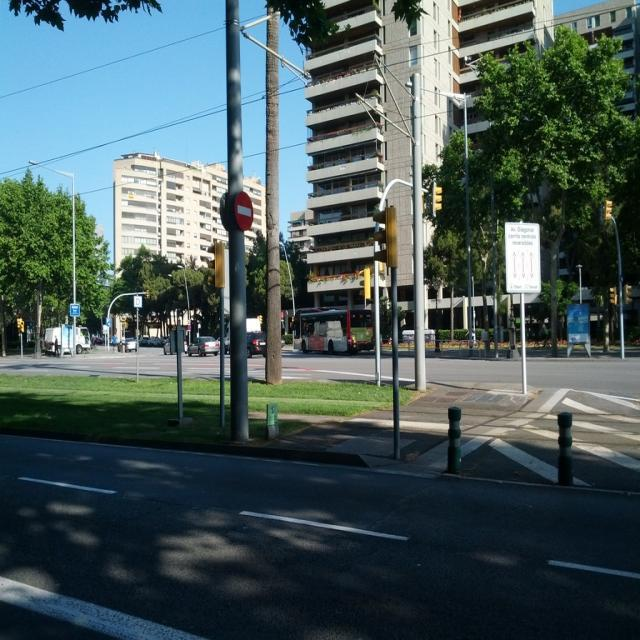off traffic light: (374, 207, 402, 272), (434, 181, 444, 214)
road_sign: (233, 190, 255, 232)
